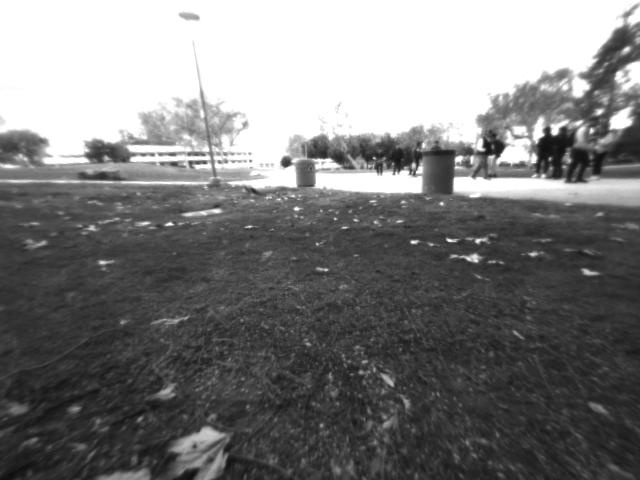trashcan: (414, 141, 459, 199), (289, 153, 322, 192)
